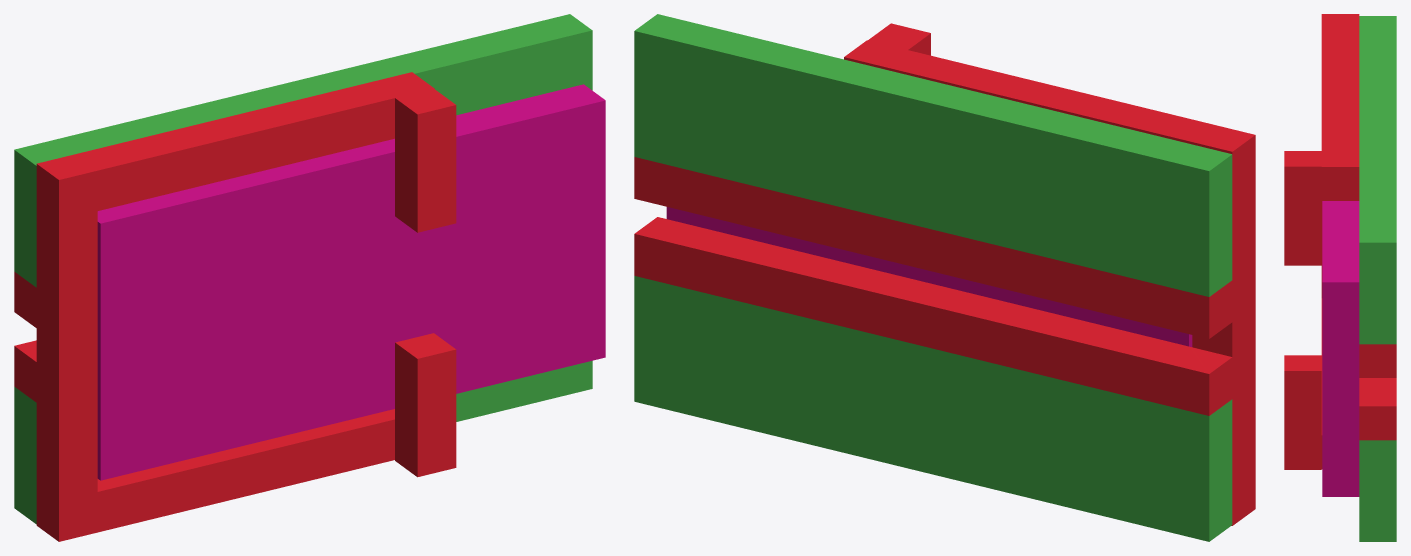
File: tinker.obj
The picture shows the model from 3 angles, left to right: view 1: azimuth 30°, elevation 25°; view 2: azimuth 150°, elevation 25°; view 3: azimuth 270°, elevation 25°; orthographic projection. The views are drawn at different scales.
Parts seen in each view (by area): view 1: group_0_14093196, group_0_15277357, group_0_4634441; view 2: group_0_4634441, group_0_15277357, group_0_14093196; view 3: group_0_15277357, group_0_4634441, group_0_14093196.
Boxes of the visible parts, left/top/right/bottom form: group_0_14093196: left=97, top=84, right=605, bottom=480; group_0_15277357: left=14, top=72, right=456, bottom=541; group_0_4634441: left=14, top=14, right=592, bottom=524; group_0_4634441: left=634, top=14, right=1232, bottom=541; group_0_15277357: left=634, top=23, right=1255, bottom=525; group_0_14093196: left=666, top=207, right=1192, bottom=346; group_0_15277357: left=1284, top=14, right=1396, bottom=469; group_0_4634441: left=1359, top=16, right=1396, bottom=541; group_0_14093196: left=1322, top=201, right=1359, bottom=496.
Size of the model in its own units: 172 by 107 by 36.
